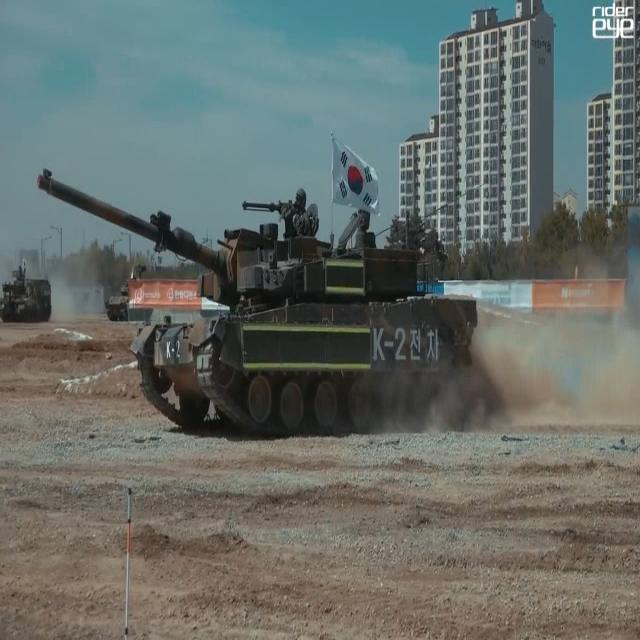korea tank: (35, 166, 479, 439)
